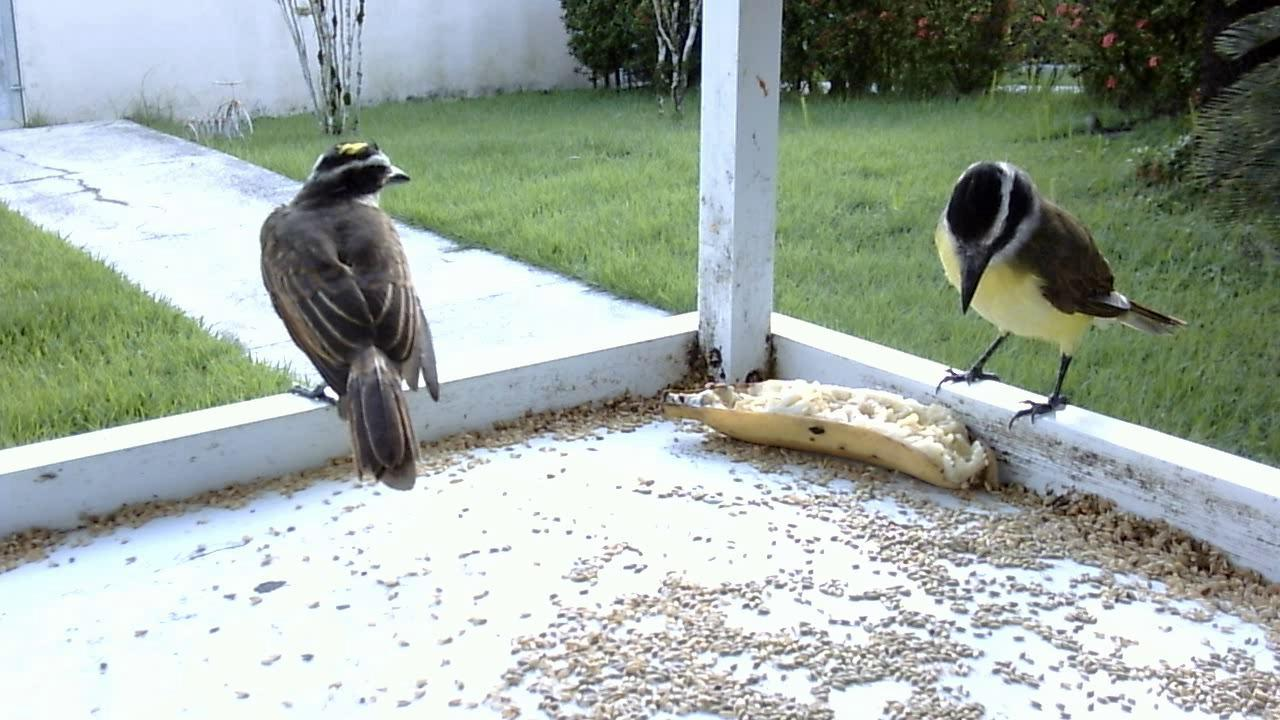bem_te_vi: (919, 149, 1191, 444), (249, 116, 447, 494)
